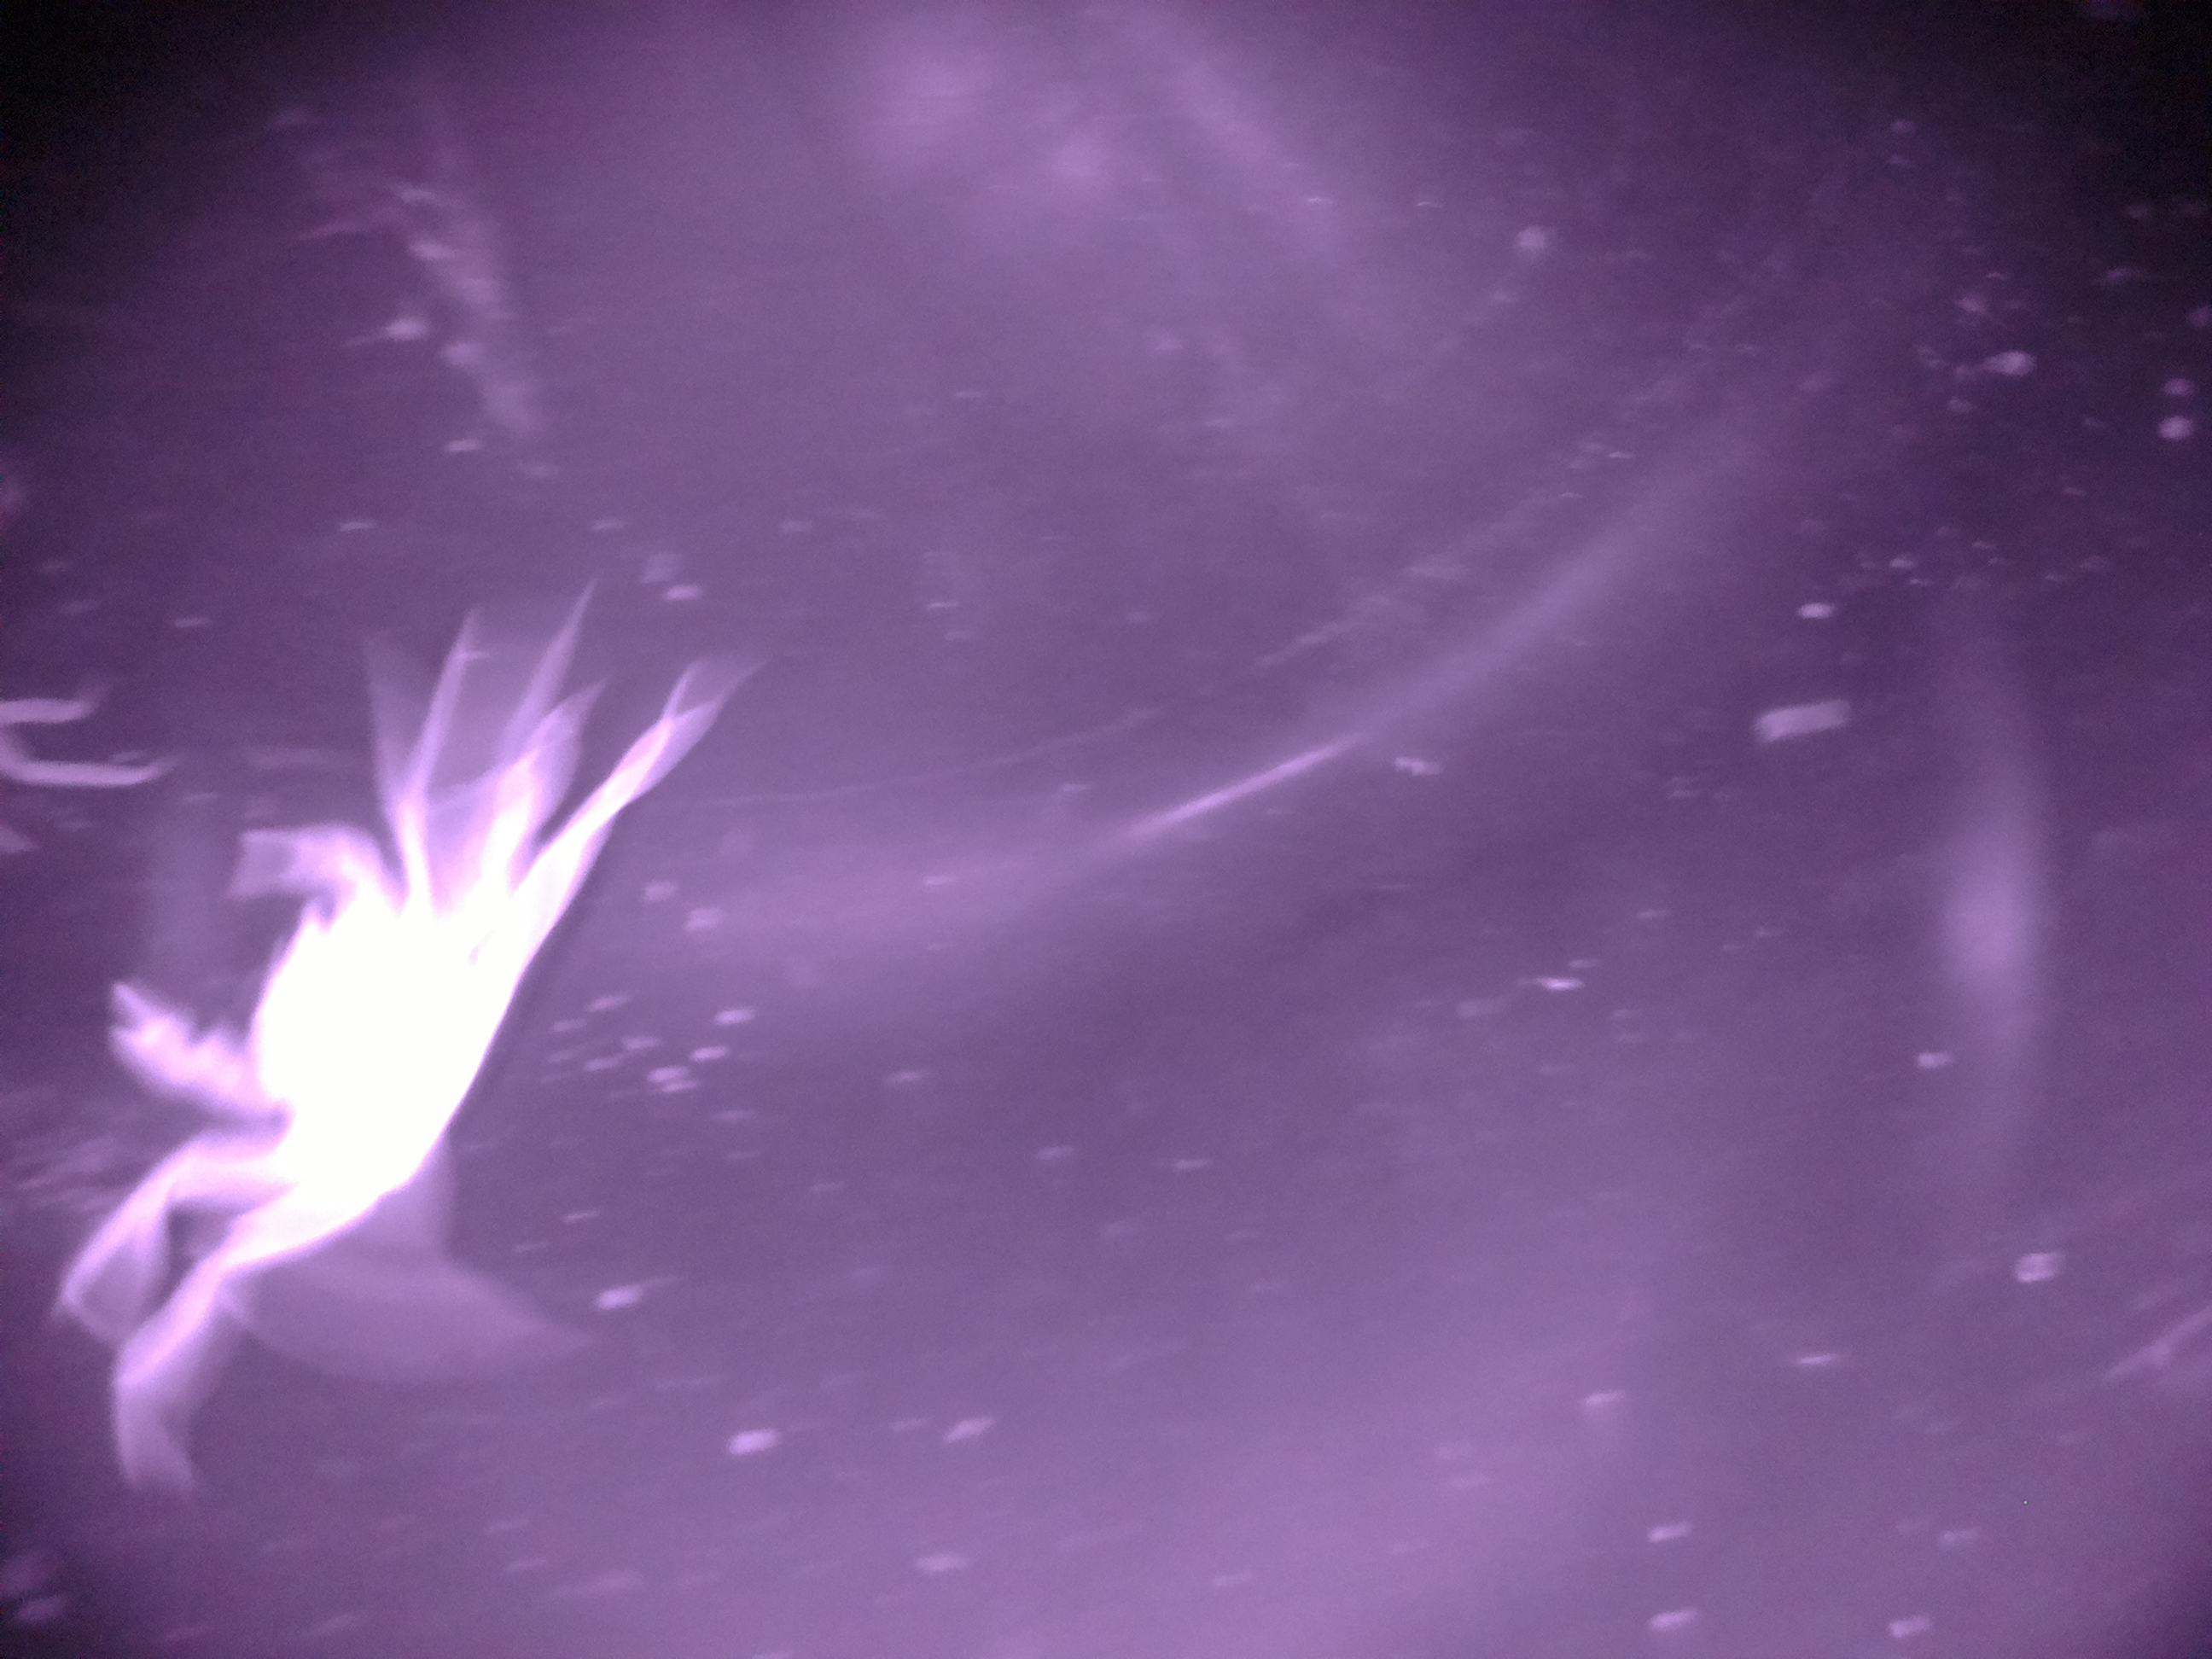Crab: (38, 714, 674, 1263)
